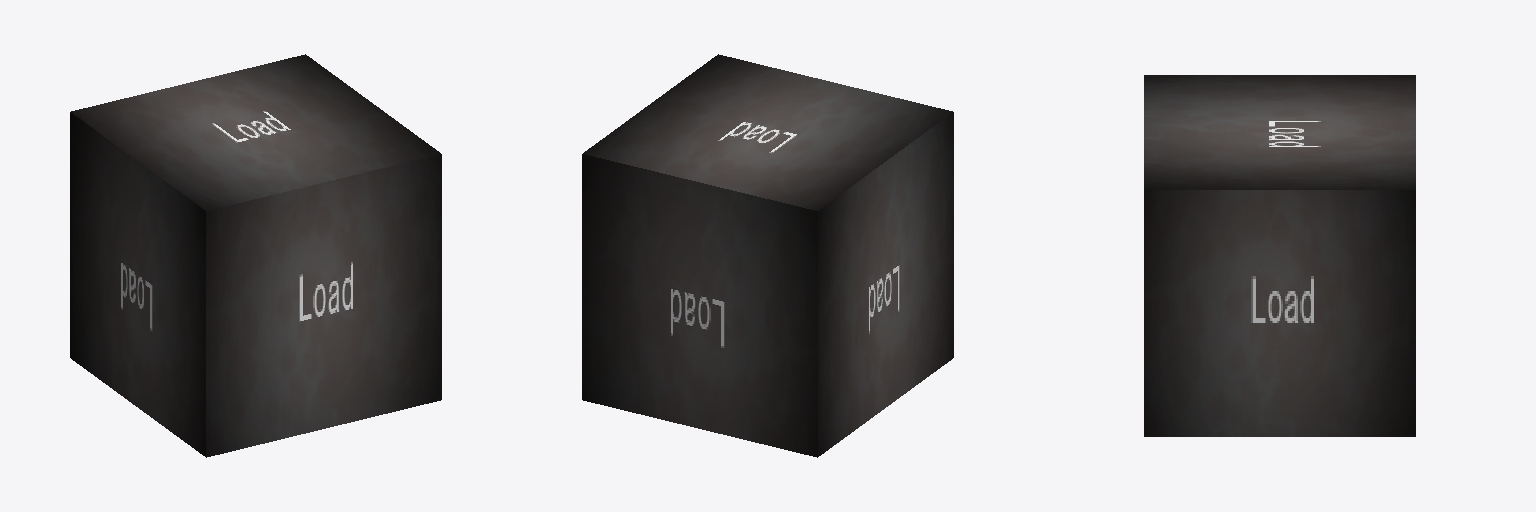
The picture shows the model from 3 angles: view 1: azimuth 30°, elevation 25°; view 2: azimuth 150°, elevation 25°; view 3: azimuth 270°, elevation 25°; orthographic projection.
Parts seen in each view (by area): view 1: Cube; view 2: Cube; view 3: Cube.
Boxes of the visible parts, box(x1,y1,x2,y2) form: Cube: box(70, 54, 441, 457); Cube: box(582, 54, 953, 457); Cube: box(1144, 75, 1415, 436).
Bounding box in the file's own units: 2 × 2 × 2.
Materials: 1 (1 with a texture image).